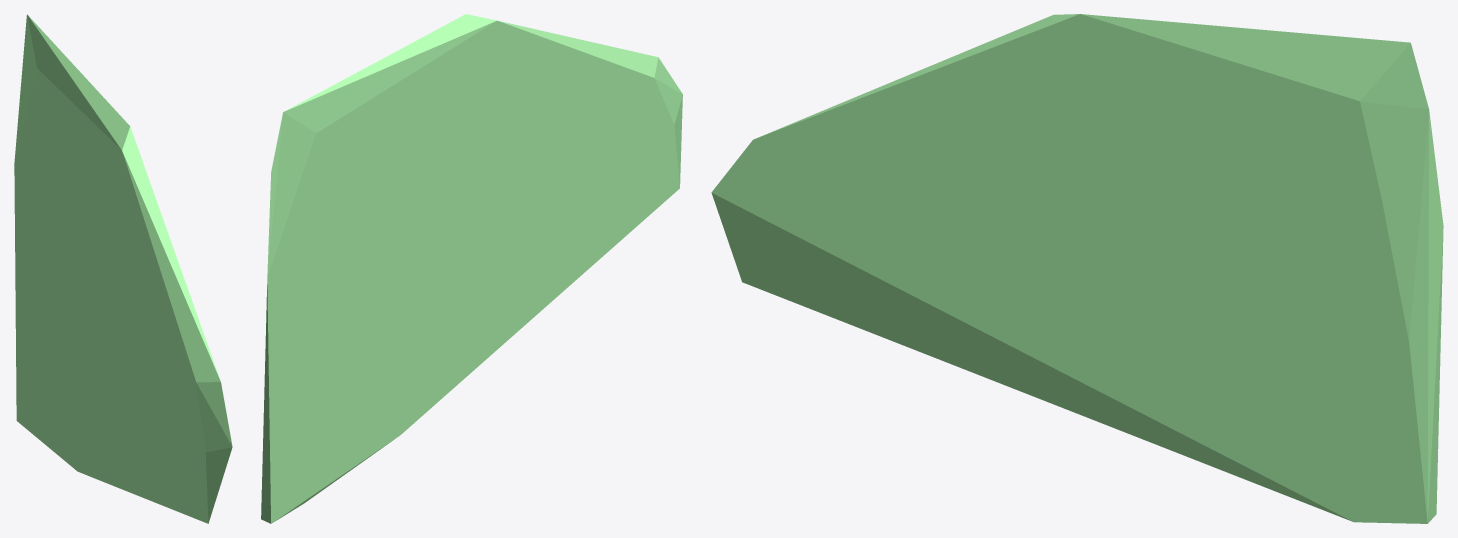
Rendered from spatula_robot_base_coll_9.dae.
The picture shows the model from 3 angles, left to right: view 1: azimuth 30°, elevation 25°; view 2: azimuth 150°, elevation 25°; view 3: azimuth 270°, elevation 25°; orthographic projection. The views are drawn at different scales.
Visible parts, largest first — view 1: Node_0x7fe6917b6bb0; view 2: Node_0x7fe6917b6bb0; view 3: Node_0x7fe6917b6bb0.
Part boxes in pixels (x1,y1,x2,y2): Node_0x7fe6917b6bb0: [14, 14, 232, 523]; Node_0x7fe6917b6bb0: [261, 14, 682, 523]; Node_0x7fe6917b6bb0: [711, 14, 1443, 523].
Bounding box in the file's own units: 0.0209 × 0.0662 × 0.091.
